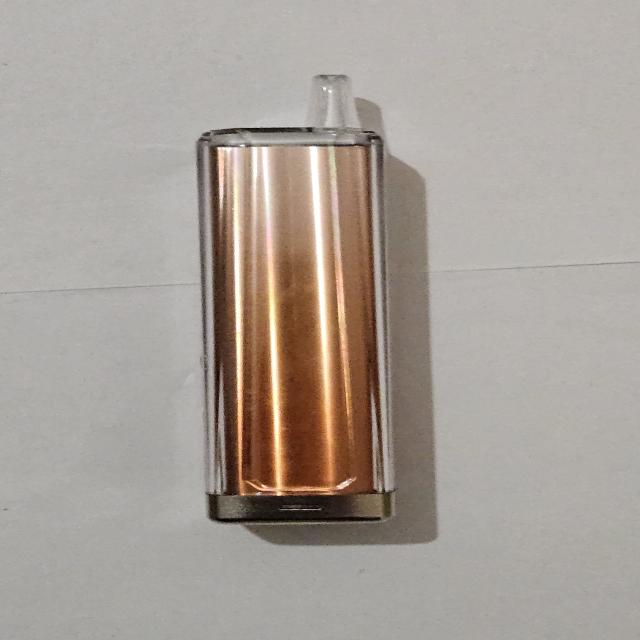Hazard: (195, 74, 398, 524)
